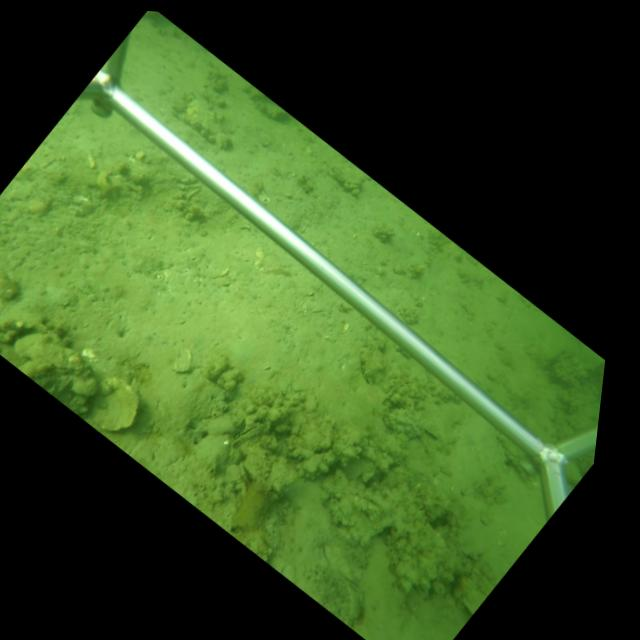Oyster-Closed: (13, 336, 91, 378), (230, 421, 269, 448)
Oyster-Indeterminate: (84, 382, 140, 433), (182, 94, 231, 149), (360, 346, 384, 379)
